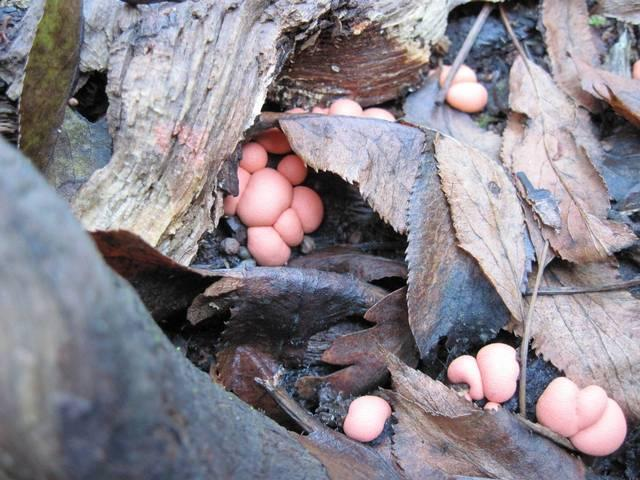poisonous_mushroom: (221, 127, 324, 266), (534, 375, 627, 457), (569, 396, 627, 456), (475, 341, 520, 403), (534, 376, 579, 437), (341, 393, 391, 442), (445, 353, 483, 401), (445, 80, 488, 113)
